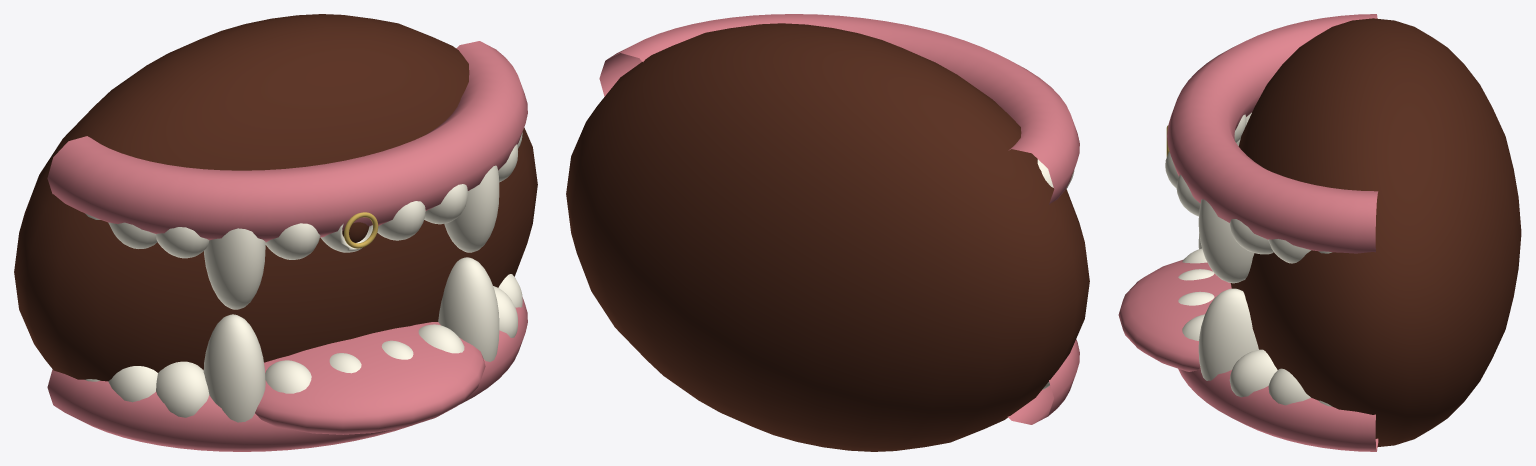
Rendered from mouth-carnivore-cavity.glb.
3 renders of one model, left to right at view 1: azimuth 30°, elevation 25°; view 2: azimuth 150°, elevation 25°; view 3: azimuth 270°, elevation 25°, orthographic. The views are drawn at different scales.
Visible parts, largest first — view 1: oral cavity, gingiva.005, tongue.002, gingiva.004, tooth.131, tooth.136, tooth.143, tooth.148, tooth.130, tooth.144, tooth.129, tooth.132 (+8 smaller); view 2: oral cavity, gingiva.005, gingiva.004; view 3: oral cavity, gingiva.005, gingiva.004, tongue.002, tooth.136, tooth.148, tooth.137, tooth.138, tooth.149, tooth.150, tooth.147.
Part boxes in pixels (x1,y1,x2,y2): oral cavity: (14, 14, 537, 381); gingiva.005: (47, 41, 527, 242); tongue.002: (255, 322, 485, 434); gingiva.004: (47, 297, 527, 451); tooth.131: (203, 314, 265, 422); tooth.136: (438, 257, 499, 361); tooth.143: (204, 228, 265, 309); tooth.148: (444, 165, 499, 252); tooth.130: (156, 361, 209, 417); tooth.144: (265, 223, 320, 259); tooth.129: (108, 366, 157, 402); tooth.132: (265, 360, 311, 393); oral cavity: (566, 23, 1089, 451); gingiva.005: (599, 14, 1079, 204); gingiva.004: (1008, 339, 1079, 424); oral cavity: (1230, 18, 1521, 446); gingiva.005: (1167, 14, 1378, 253); gingiva.004: (1178, 368, 1378, 451); tongue.002: (1118, 260, 1231, 371); tooth.136: (1198, 288, 1258, 380); tooth.148: (1198, 199, 1254, 283); tooth.137: (1229, 349, 1277, 397); tooth.138: (1268, 368, 1310, 405); tooth.149: (1229, 219, 1273, 254); tooth.150: (1268, 239, 1310, 263); tooth.147: (1176, 174, 1200, 216).
Bounding box in the file's own units: 1.3 × 0.98 × 0.98.
